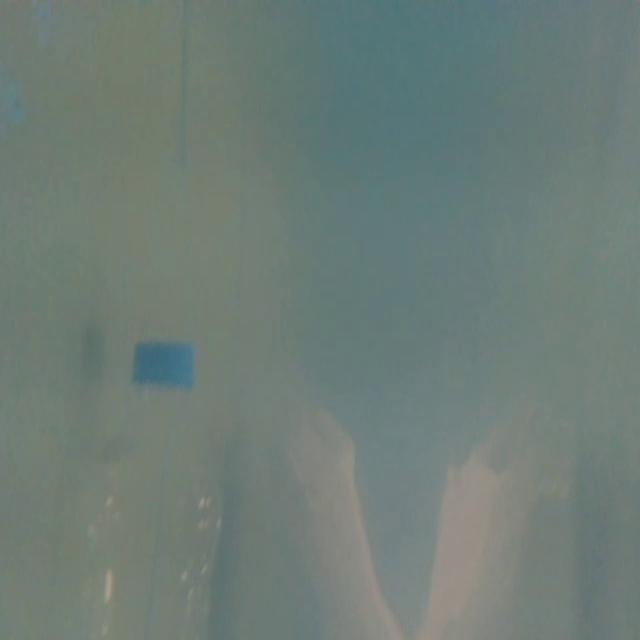plastic bottle: (87, 337, 231, 640)
